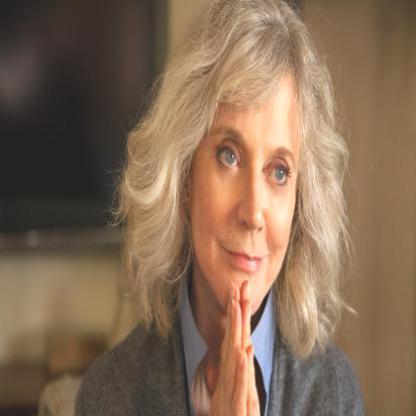person: (106, 1, 354, 415)
